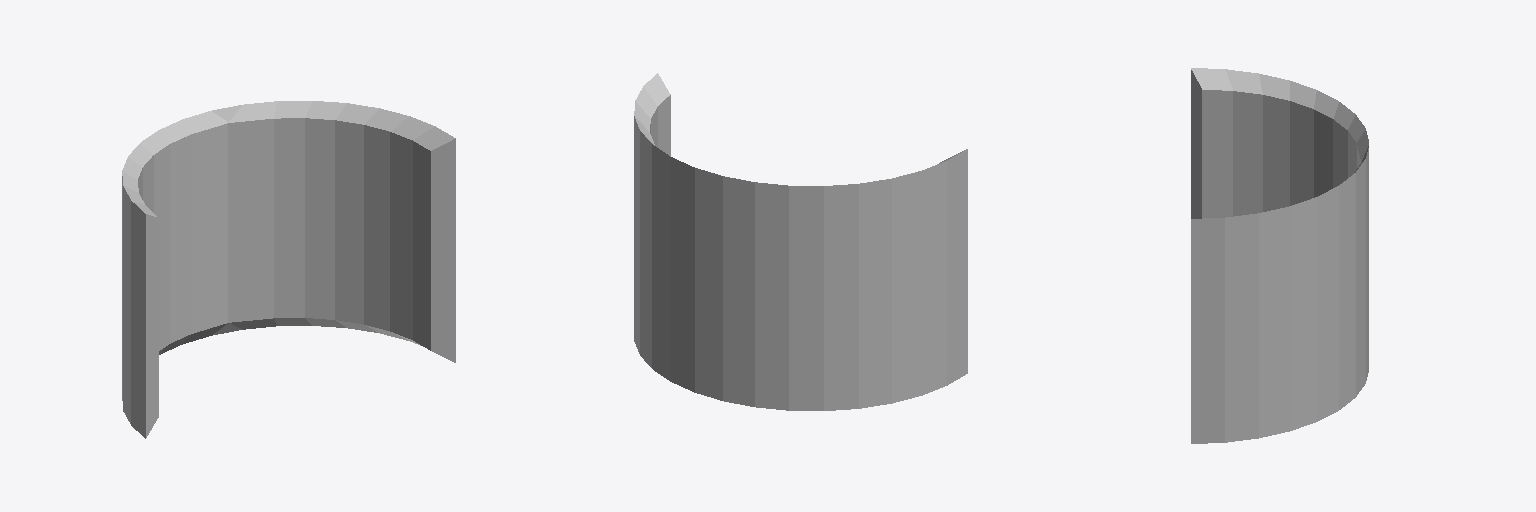
Rendered from halfpipe.obj.
3 renders of one model, left to right at view 1: azimuth 30°, elevation 25°; view 2: azimuth 150°, elevation 25°; view 3: azimuth 270°, elevation 25°, orthographic.
Parts seen in each view (by area): view 1: Circle; view 2: Circle; view 3: Circle.
Part boxes in pixels (x1,y1,x2,y2): Circle: (122,101,455,438); Circle: (634,73,967,410); Circle: (1191,68,1368,443).
Bounding box in the file's own units: 2.25 × 1.57 × 1.13.